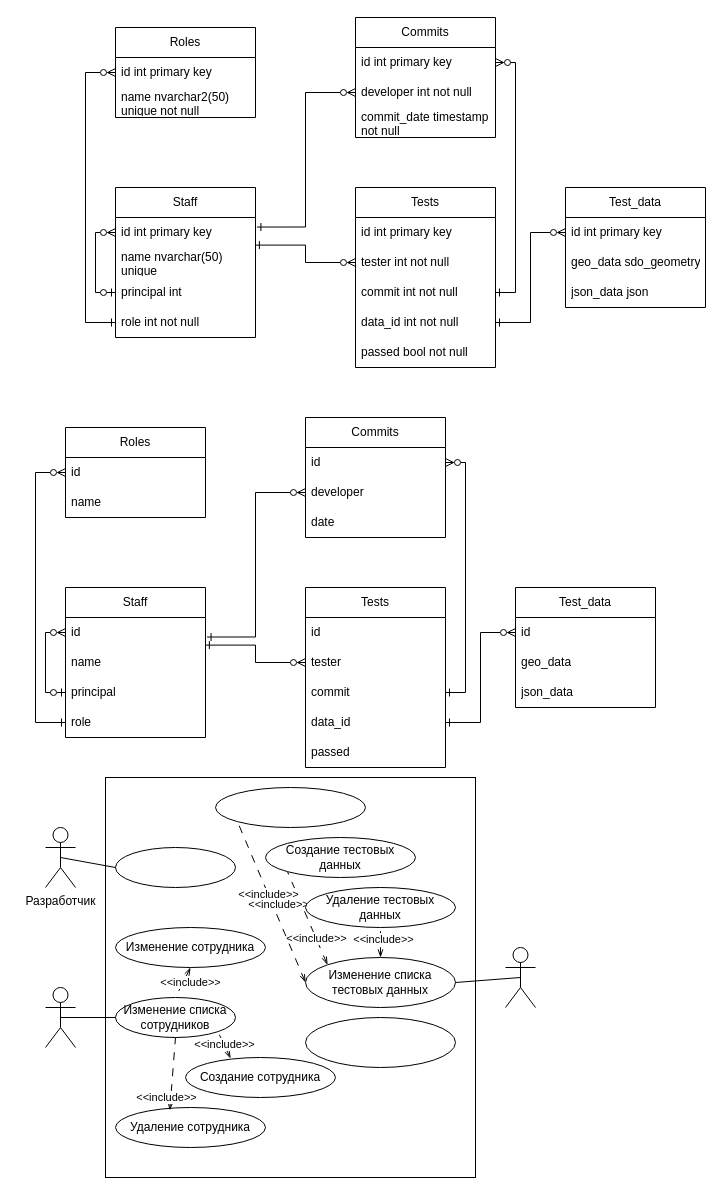
The diagram is 723 pixels wide and 1195 high, and some of its shapes have lost their labels. Here are the shapes that lost their labels. From the top down, the centre of each, then its label:
the point at 290,807: Изменение тестовых данных
the point at 175,867: Создание коммитов
the point at 520,977: Тестировщик
the point at 60,1017: Администратор базы данных
the point at 380,1042: Выполнение тестов
